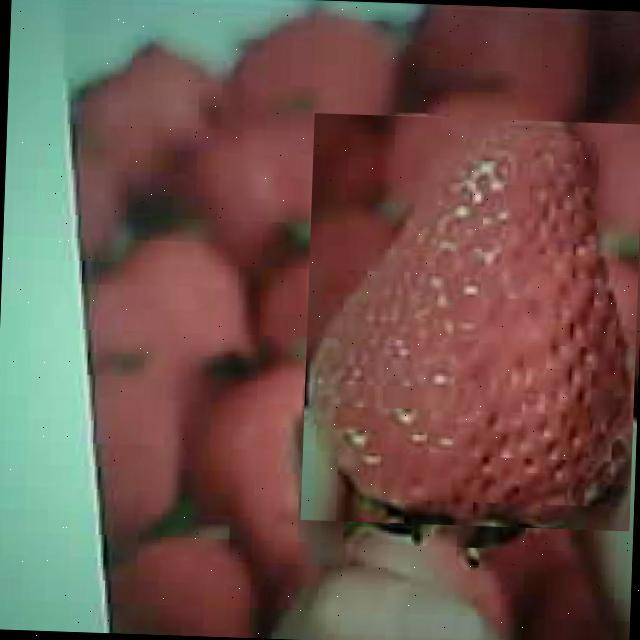ripe: (300, 113, 640, 531)
